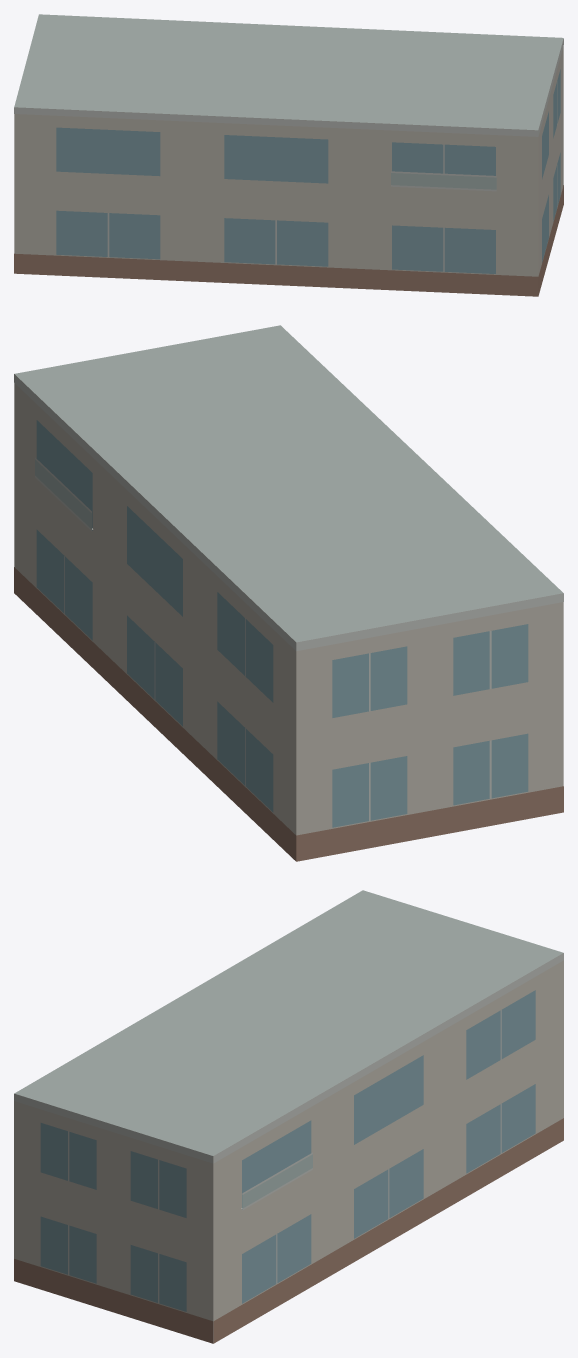
File: survey-upis-32984665.glb
3 views of the same model, one above another, from view 1: azimuth 30°, elevation 25°; view 2: azimuth 150°, elevation 25°; view 3: azimuth 270°, elevation 25° (orthographic). The views are drawn at different scales.
Visible parts, largest first — view 1: survey-upis-32984665.tmp; view 2: survey-upis-32984665.tmp; view 3: survey-upis-32984665.tmp.
Part boxes in pixels (x1,y1,x2,y2): survey-upis-32984665.tmp: (14, 14, 563, 296); survey-upis-32984665.tmp: (14, 325, 563, 861); survey-upis-32984665.tmp: (14, 890, 563, 1343).
Size of the model in its own units: 18.56 by 6.1 by 16.21.
